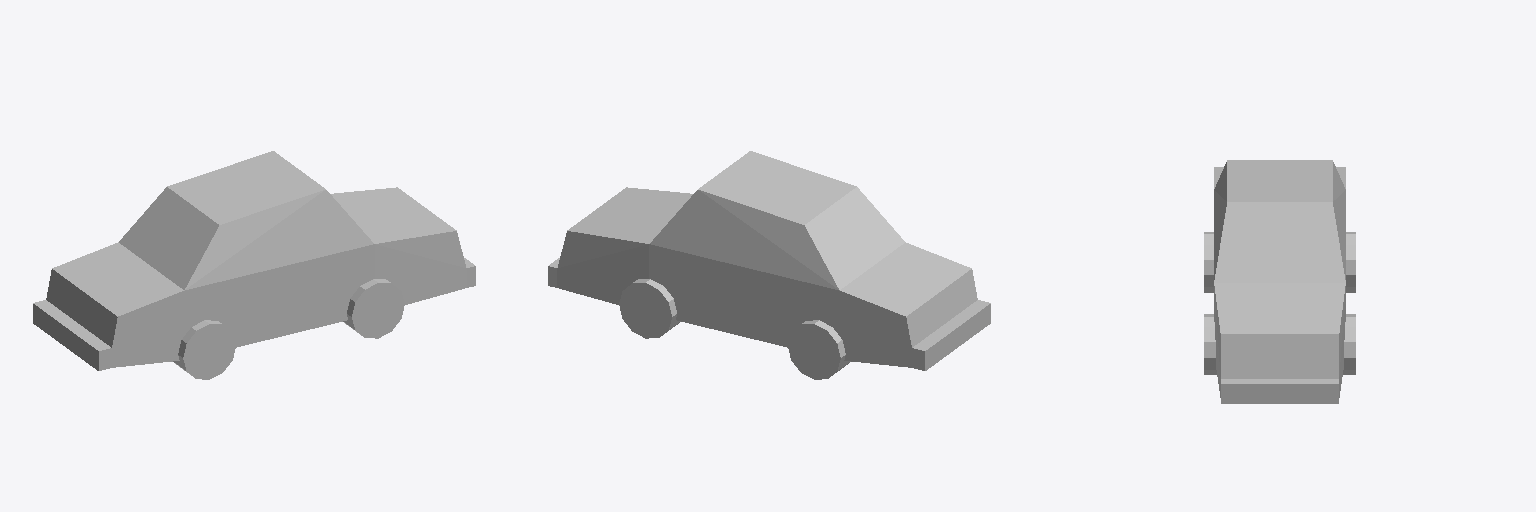
The model's file is truck_s.obj.
The picture shows the model from 3 angles: view 1: azimuth 30°, elevation 25°; view 2: azimuth 150°, elevation 25°; view 3: azimuth 270°, elevation 25°; orthographic projection.
Bounding box in the file's own units: 4 × 1.51 × 1.39.